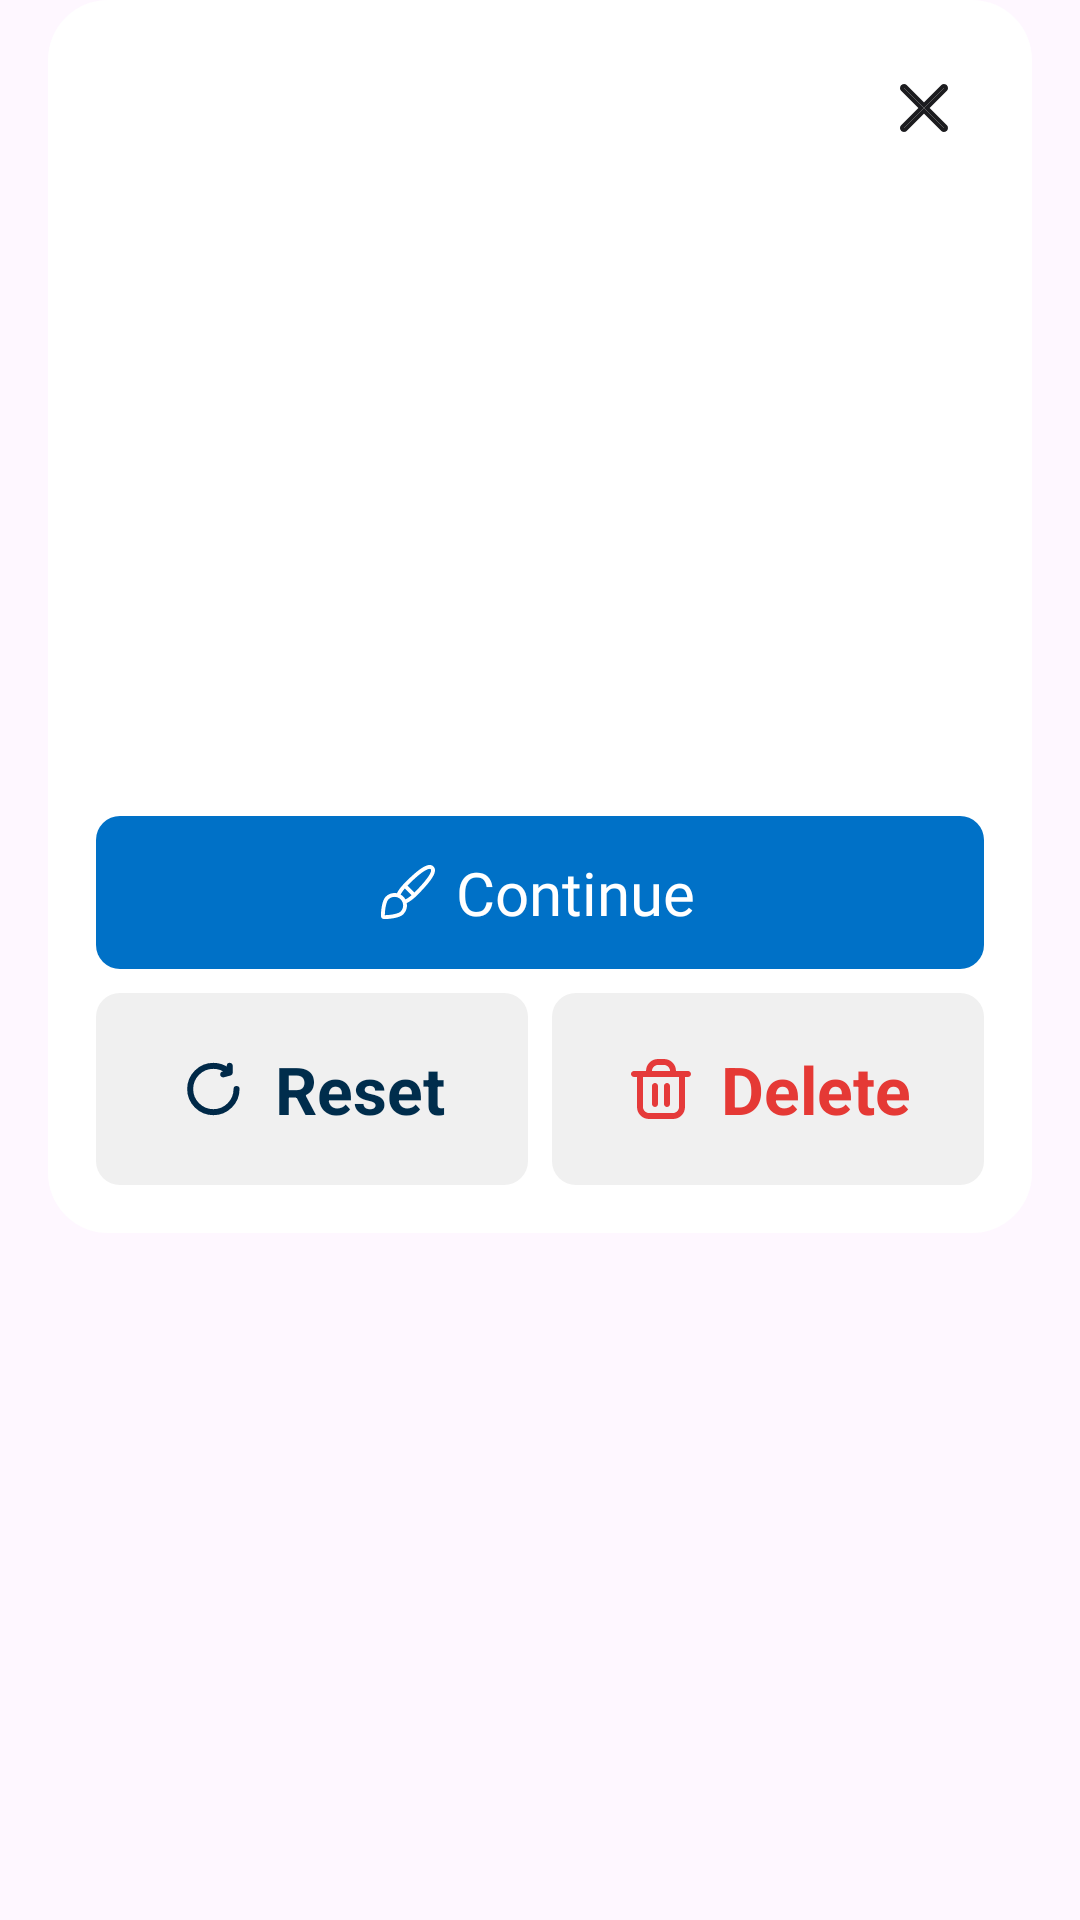

Named icons in this screenshot (1080*1920) and their bounding boxes, [x1, y1, x2, y2]:
close ads: [900, 84, 948, 132]
edit: [381, 865, 435, 919]
trash: [631, 1059, 691, 1119]
